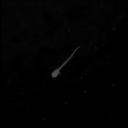fish: (50, 46, 80, 78)
